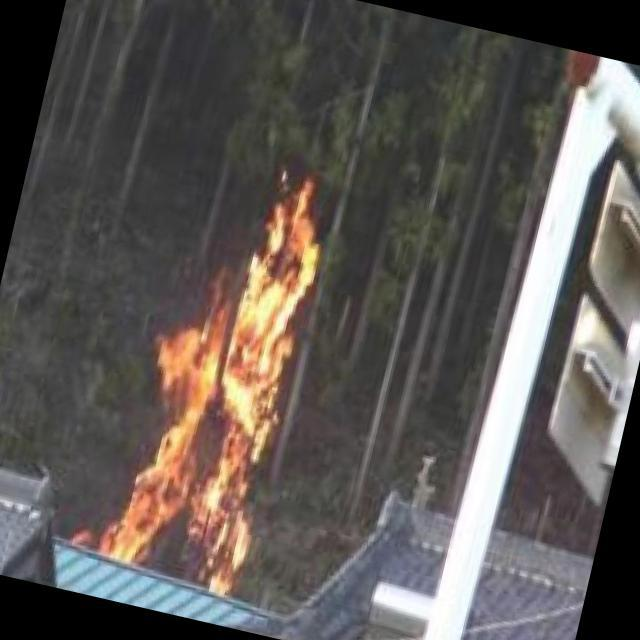Fire: (115, 172, 347, 607)
